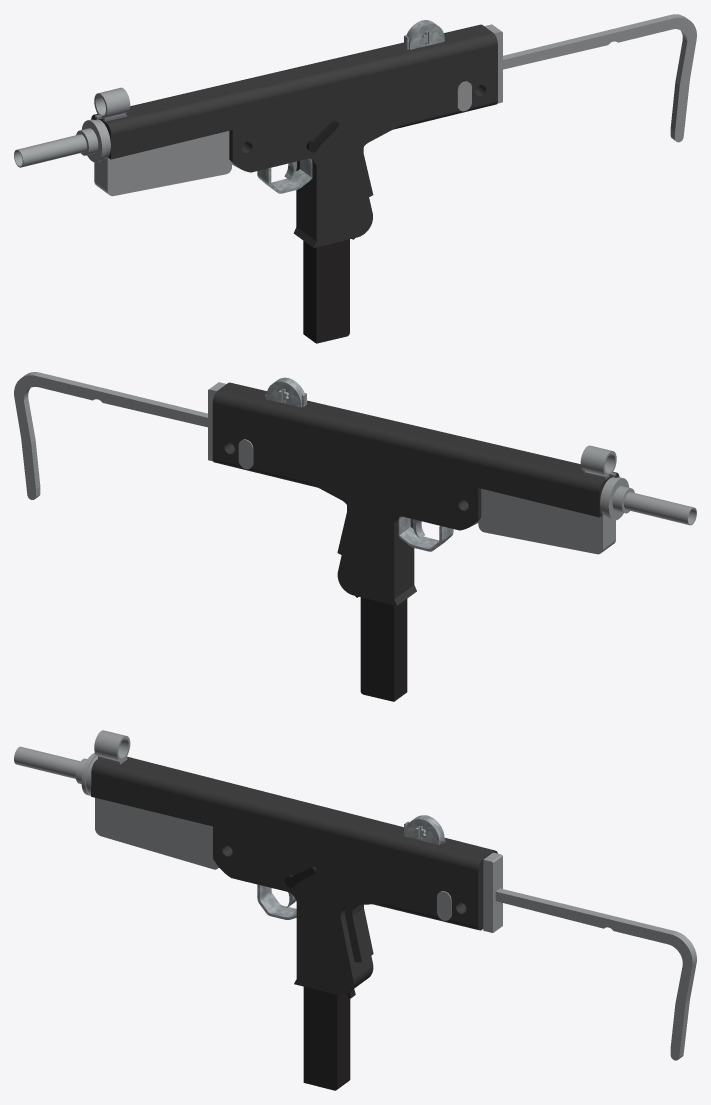
File: SMG.glb
3 renders of one model, top to bottom at view 1: azimuth 30°, elevation 25°; view 2: azimuth 150°, elevation 25°; view 3: azimuth 330°, elevation 25°, orthographic.
Bounding box in the file's own units: 0.2377 × 0.0995 × 0.014.
Materials: 6 (1 with a texture image).
